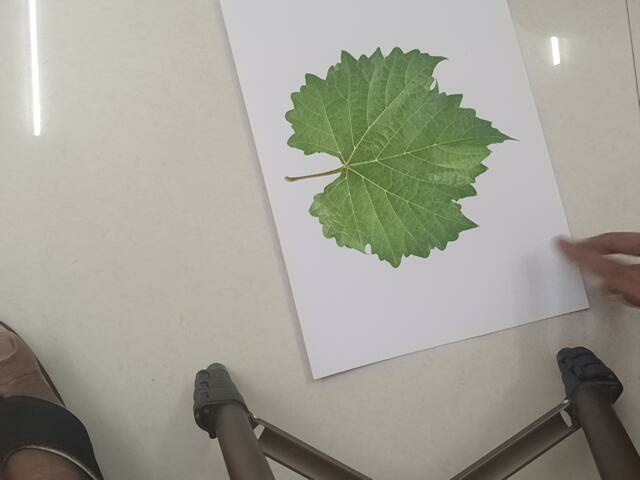Grape_Healthy: (285, 48, 523, 271)
